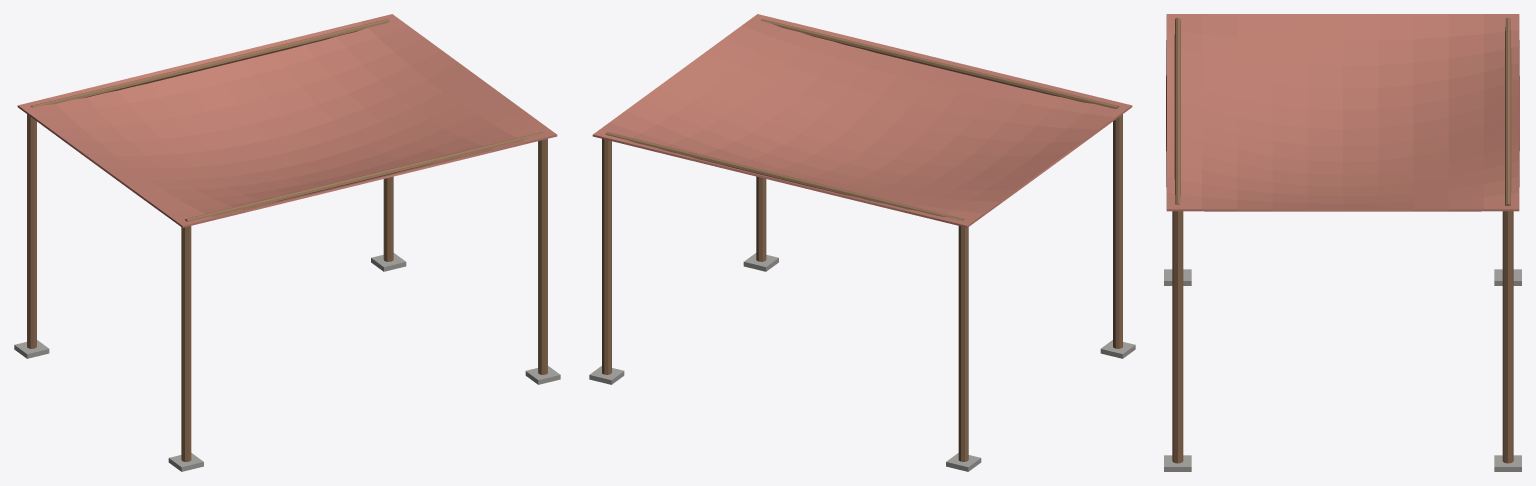
Rendered from kit_canopy_repaired.glb.
3 views of the same model, side by side, from view 1: azimuth 30°, elevation 25°; view 2: azimuth 150°, elevation 25°; view 3: azimuth 270°, elevation 25° (orthographic). The views are drawn at different scales.
Visible parts, largest first — view 1: cloth_clean, frame.003; view 2: cloth_clean, frame.003; view 3: cloth_clean, frame.003.
Part boxes in pixels (x1,y1,x2,y2): cloth_clean: (17,14,557,227); frame.003: (14,19,560,471); cloth_clean: (592,14,1132,227); frame.003: (589,19,1135,471); cloth_clean: (1166,14,1519,211); frame.003: (1164,17,1521,471).
Size of the model in its own units: 4.25 by 2.63 by 3.25.
